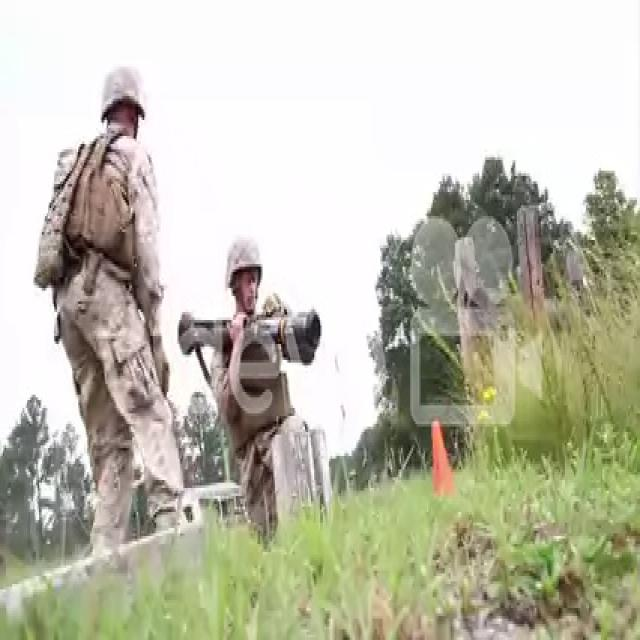bazooka: (175, 301, 326, 367)
